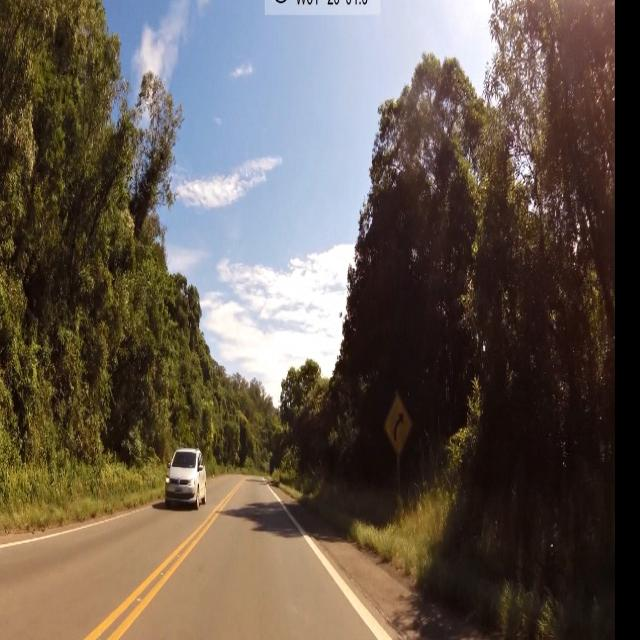A-2b: (383, 392, 412, 458)
